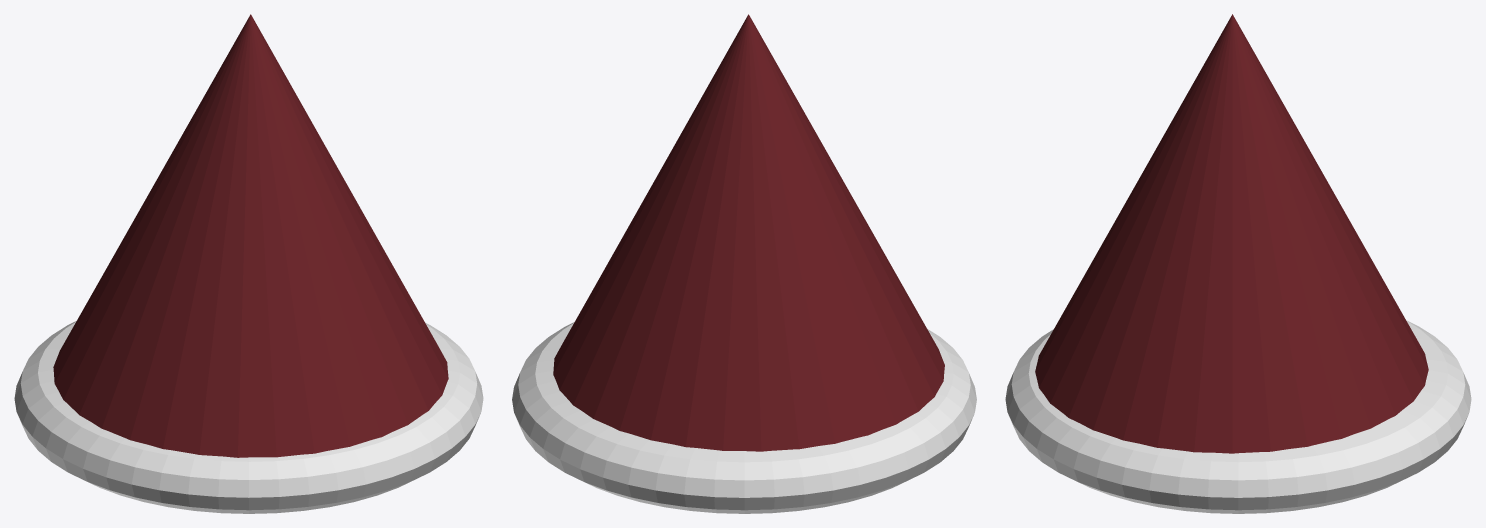
Rendered from pincho.glb.
The picture shows the model from 3 angles, left to right: view 1: azimuth 30°, elevation 25°; view 2: azimuth 150°, elevation 25°; view 3: azimuth 270°, elevation 25°; orthographic projection.
Parts seen in each view (by area): view 1: Cone, Torus; view 2: Cone, Torus; view 3: Cone, Torus.
Part boxes in pixels (x1,y1,x2,y2): Cone: [53, 14, 448, 457]; Torus: [14, 321, 483, 513]; Cone: [553, 14, 944, 451]; Torus: [512, 322, 976, 513]; Cone: [1035, 14, 1428, 453]; Torus: [1005, 320, 1471, 513].
Bounding box in the file's own units: 2.13 × 2.09 × 2.13.
